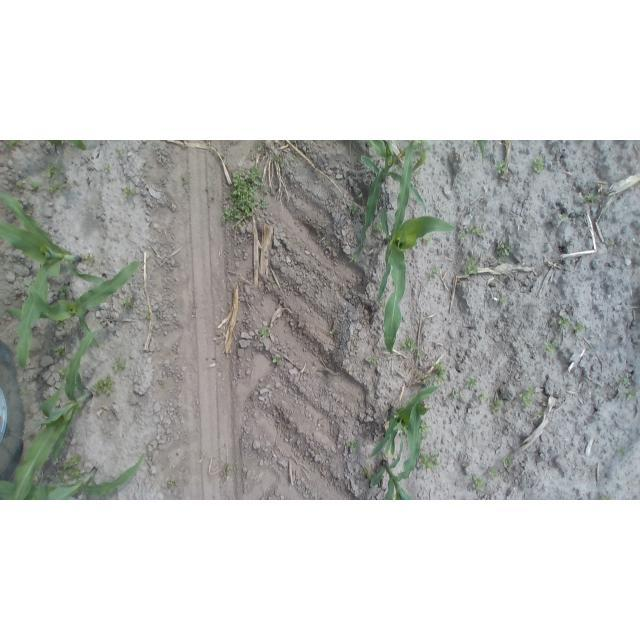Maize: (0, 188, 118, 363), (375, 147, 462, 351), (3, 327, 103, 498), (5, 254, 143, 350), (353, 140, 433, 257), (359, 396, 439, 501), (367, 386, 443, 478), (14, 453, 151, 500), (474, 141, 487, 160)
Weeds: (222, 166, 267, 228), (53, 454, 86, 486), (93, 375, 115, 398), (418, 451, 441, 472), (519, 385, 537, 407), (431, 361, 448, 384), (497, 243, 512, 265), (464, 256, 480, 276), (466, 222, 485, 238), (46, 182, 68, 195), (402, 337, 418, 353), (494, 160, 510, 176), (53, 346, 70, 361), (44, 163, 62, 177), (531, 157, 545, 174), (582, 189, 599, 203), (471, 475, 485, 492), (420, 419, 430, 442), (113, 358, 128, 373), (491, 396, 505, 412), (543, 339, 559, 353), (121, 185, 135, 200), (465, 376, 480, 390), (56, 285, 70, 299), (223, 463, 234, 480), (259, 326, 272, 340), (573, 321, 585, 336), (558, 314, 570, 329), (3, 141, 22, 150), (348, 440, 361, 453), (122, 296, 134, 310), (620, 374, 633, 386), (427, 267, 438, 281), (476, 390, 488, 402), (624, 389, 637, 400), (502, 455, 513, 468), (83, 254, 96, 265), (165, 478, 179, 488), (488, 468, 500, 479), (271, 355, 283, 366), (273, 154, 285, 165), (365, 355, 377, 366), (417, 349, 427, 362), (373, 223, 384, 234), (348, 202, 358, 214), (15, 181, 25, 193), (416, 141, 428, 151), (617, 447, 629, 457), (362, 468, 372, 480), (498, 294, 508, 306), (30, 182, 43, 191), (449, 389, 459, 400), (534, 409, 545, 419), (18, 386, 30, 395), (349, 251, 358, 263), (421, 374, 430, 386), (600, 493, 615, 500), (54, 319, 67, 327), (605, 239, 615, 249), (59, 368, 68, 379), (257, 144, 267, 153), (423, 234, 433, 243), (143, 310, 152, 319), (104, 164, 112, 174), (115, 148, 125, 156), (328, 328, 336, 337)
